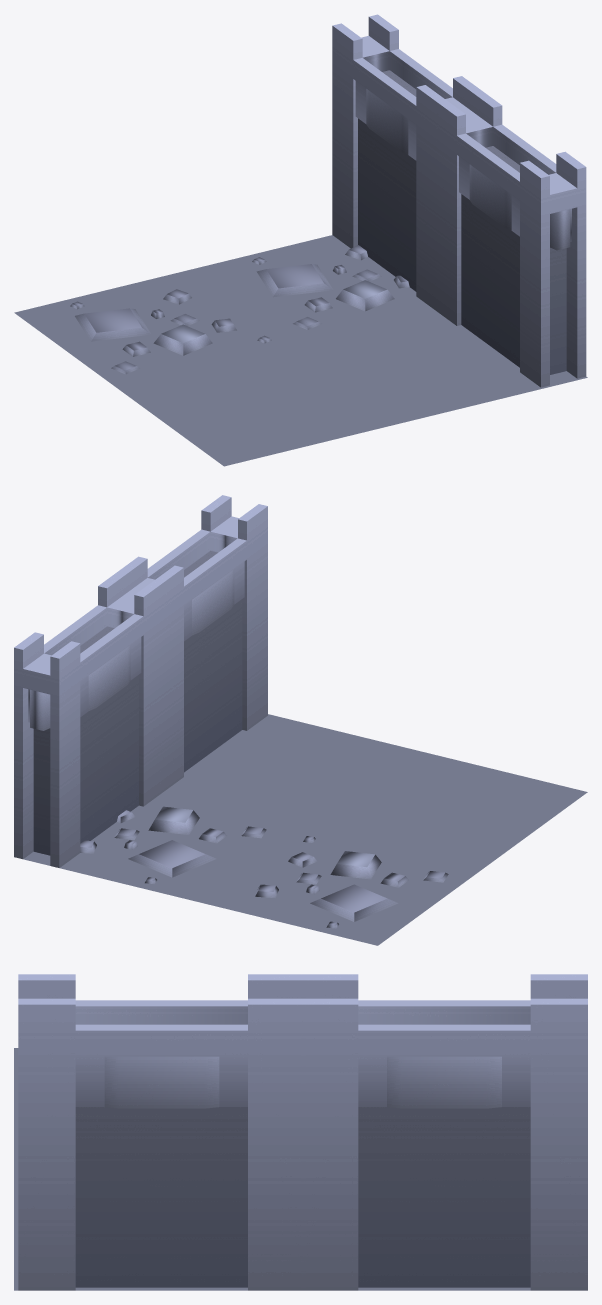
File: tile_2.glb
The picture shows the model from 3 angles, top to bottom: view 1: azimuth 30°, elevation 25°; view 2: azimuth 150°, elevation 25°; view 3: azimuth 270°, elevation 25°; orthographic projection. The views are drawn at different scales.
Parts seen in each view (by area): view 1: wall2; view 2: wall2; view 3: wall2.
Boxes of the visible parts, <box> form: wall2: <box>14,14,587,466</box>; wall2: <box>14,495,587,945</box>; wall2: <box>14,974,587,1290</box>.
Size of the model in its own units: 2 by 1.1 by 2.
Materials: 6 (6 with a texture image).
